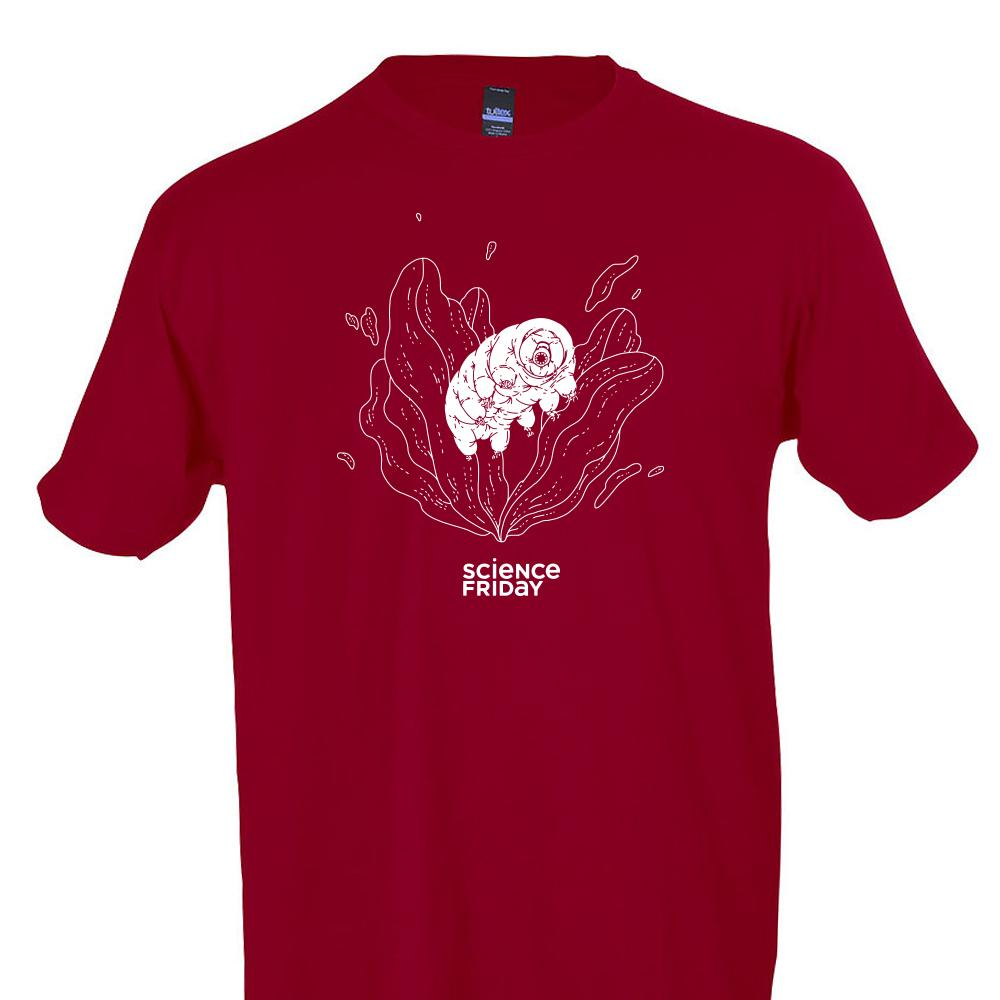T-Shirt: (27, 51, 980, 1000)
